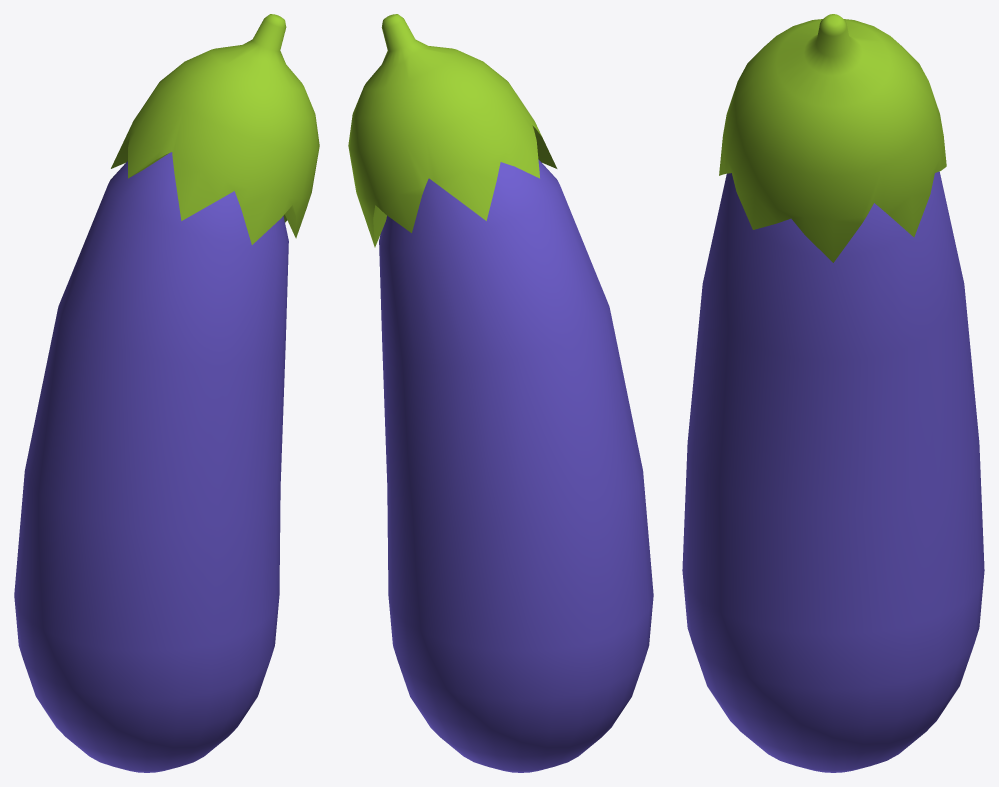
File: eggplant.dae
The picture shows the model from 3 angles, left to right: view 1: azimuth 30°, elevation 25°; view 2: azimuth 150°, elevation 25°; view 3: azimuth 270°, elevation 25°; orthographic projection. The views are drawn at different scales.
Parts seen in each view (by area): view 1: group_2, group_1; view 2: group_2, group_1; view 3: group_2, group_1.
Boxes of the visible parts, left/top/right/bottom form: group_2: left=14, top=152, right=288, bottom=772; group_1: left=111, top=14, right=319, bottom=244; group_2: left=379, top=159, right=653, bottom=772; group_1: left=348, top=14, right=557, bottom=247; group_2: left=682, top=171, right=984, bottom=772; group_1: left=719, top=14, right=946, bottom=262.
Bounding box in the file's own units: 20.33 × 16.97 × 50.68.
